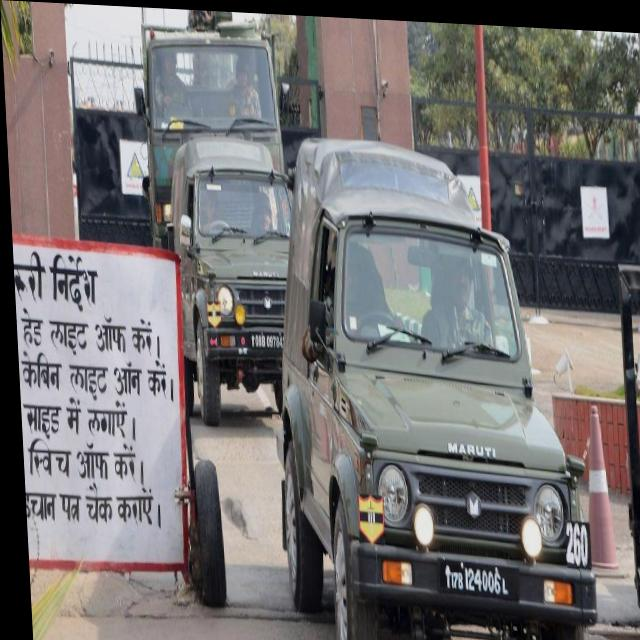0: (574, 519, 583, 562), (481, 566, 488, 588), (476, 564, 481, 587), (251, 332, 256, 345), (263, 334, 267, 345)
1: (458, 563, 462, 585), (445, 568, 448, 585)
2: (559, 516, 569, 558), (462, 564, 469, 587)
4: (468, 563, 476, 587), (276, 335, 279, 345)
6: (567, 517, 576, 562), (488, 566, 495, 590)
7: (447, 568, 451, 584), (269, 334, 273, 345)
8: (272, 334, 276, 345), (255, 332, 258, 344)
9: (266, 333, 270, 345)
b: (451, 569, 457, 586), (258, 333, 262, 344)
l: (495, 571, 502, 590)
